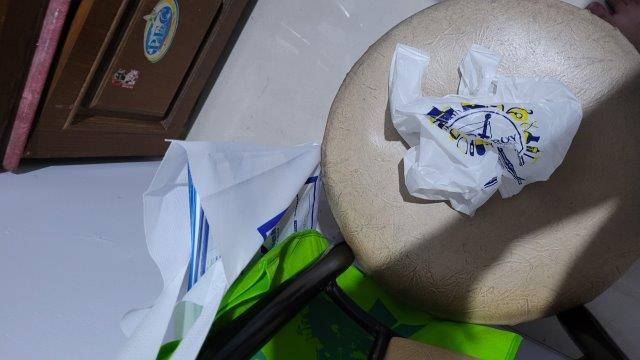plastik: (389, 42, 583, 216)
